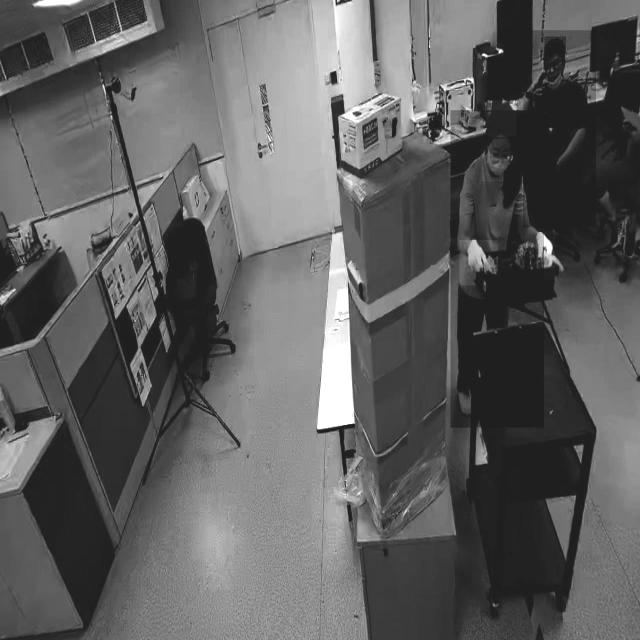face_mask: (482, 139, 510, 181)
hand_glove: (460, 240, 498, 285), (536, 230, 556, 281)
hand_noglove: (532, 66, 548, 92)
head_nohelmet: (487, 100, 517, 138), (544, 36, 566, 54)
person: (450, 110, 544, 428), (523, 30, 596, 228)
